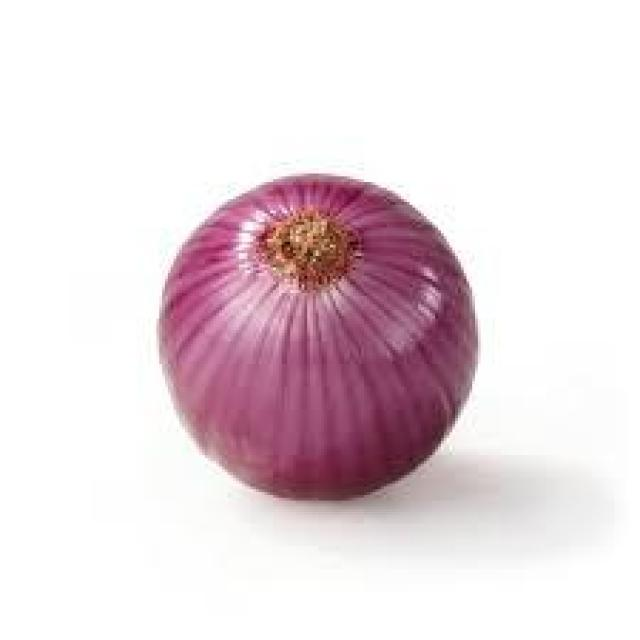Onion: (142, 158, 489, 513)
